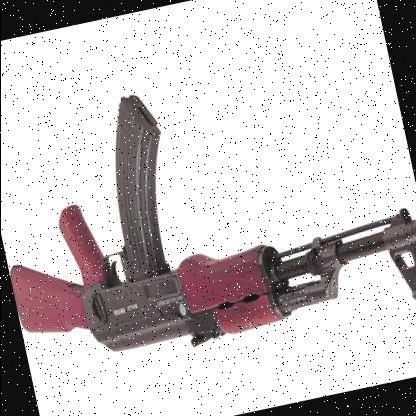rifle: (0, 51, 416, 402)
